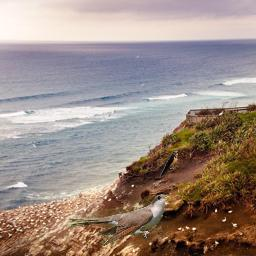Cuckoo: (67, 194, 169, 246)
Swallow: (160, 150, 178, 177)
